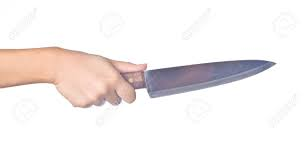weapon-unusual: (77, 56, 284, 99)
